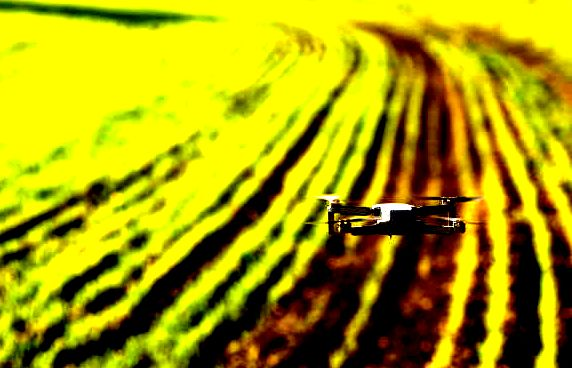Drone: (290, 185, 490, 244)
